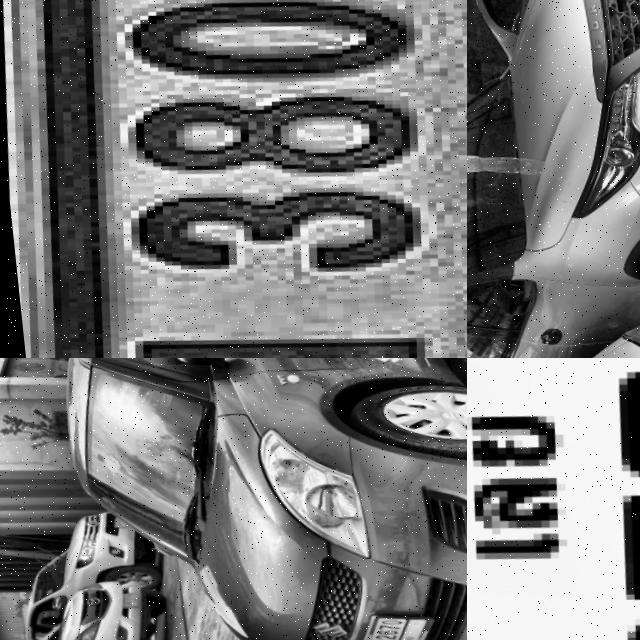license-plate: (0, 0, 467, 358), (467, 358, 640, 640), (340, 612, 427, 640), (109, 593, 130, 611), (102, 516, 121, 529)
